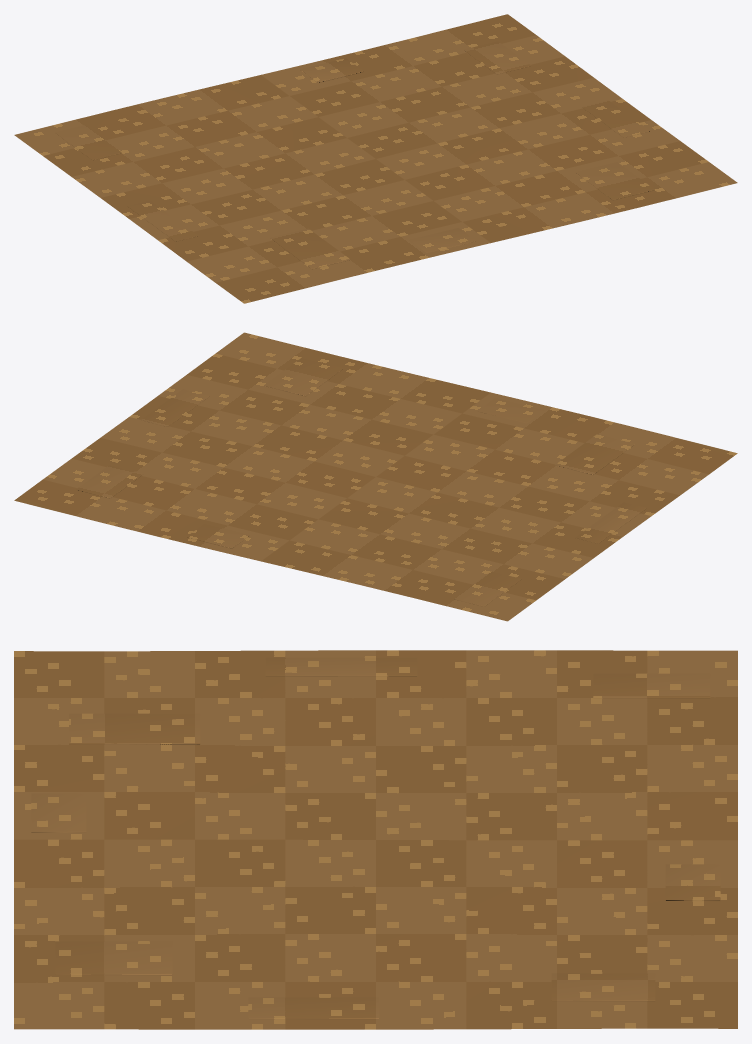
Rendered from SM_Track_DesertGround_A.obj.
The picture shows the model from 3 angles, top to bottom: view 1: azimuth 30°, elevation 25°; view 2: azimuth 150°, elevation 25°; view 3: azimuth 270°, elevation 25°; orthographic projection. The views are drawn at different scales.
Visible parts, largest first — view 1: DesertSurface, DuneRidge2, DuneRidge4, DuneRidge3, DuneRidge1, DuneRidge7, DuneRidge8, DuneRidge5, DuneRidge6; view 2: DesertSurface, DuneRidge2, DuneRidge4, DuneRidge3, DuneRidge1, DuneRidge8, DuneRidge7, DuneRidge5, DuneRidge6; view 3: DesertSurface, DuneRidge2, DuneRidge4, DuneRidge1, DuneRidge7, DuneRidge3, DuneRidge8, DuneRidge5, DuneRidge6.
Part boxes in pixels (x1,y1,x2,y2): DesertSurface: (14, 14, 737, 303); DuneRidge2: (270, 228, 349, 269); DuneRidge4: (575, 162, 654, 200); DuneRidge3: (463, 41, 530, 74); DuneRidge1: (55, 125, 122, 160); DuneRidge7: (127, 200, 198, 241); DuneRidge8: (582, 100, 649, 137); DuneRidge5: (409, 228, 475, 252); DuneRidge6: (300, 58, 363, 83); DesertSurface: (14, 332, 737, 621); DuneRidge2: (555, 434, 634, 475); DuneRidge4: (264, 358, 342, 396); DuneRidge3: (76, 465, 143, 498); DuneRidge1: (454, 571, 521, 606); DuneRidge8: (141, 389, 209, 426); DuneRidge7: (575, 502, 646, 543); DuneRidge5: (477, 398, 544, 423); DuneRidge6: (186, 524, 249, 548); DesertSurface: (14, 650, 737, 1029); DuneRidge2: (69, 713, 200, 745); DuneRidge4: (55, 941, 172, 975); DuneRidge1: (593, 673, 710, 698); DuneRidge7: (265, 657, 417, 676); DuneRidge3: (551, 973, 655, 1001); DuneRidge8: (248, 997, 379, 1019); DuneRidge5: (31, 793, 86, 832); DuneRidge6: (665, 864, 720, 901).
Size of the model in its own units: 260 by 1.08 by 210.
1 material, 1 textured.
